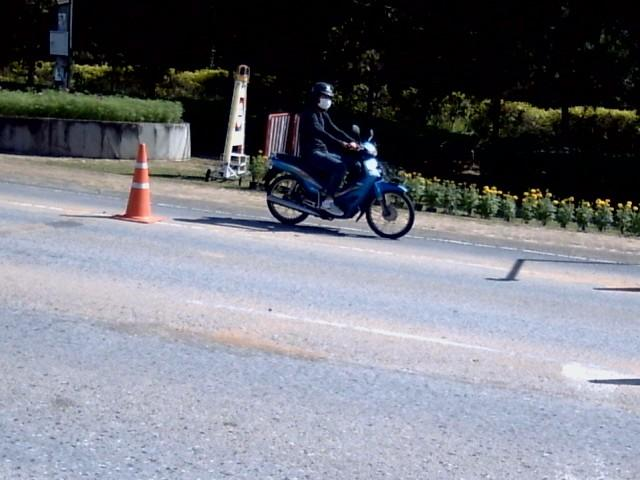helmet: (310, 81, 334, 110)
motor: (265, 130, 414, 238)
person: (300, 82, 357, 214)
